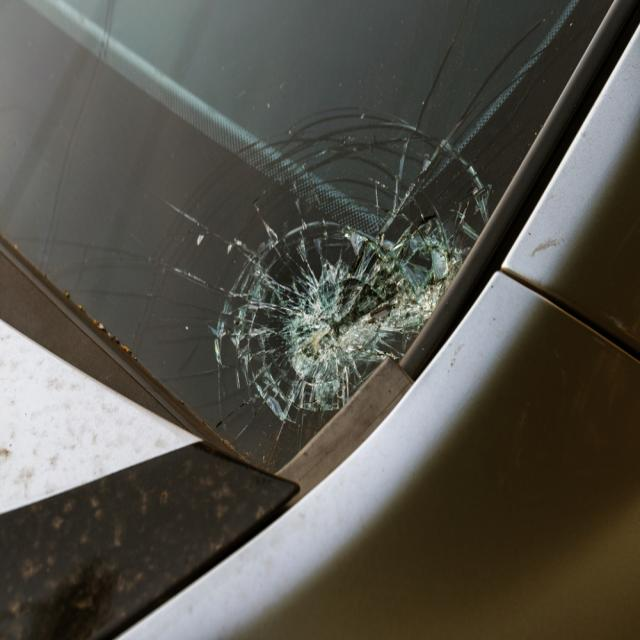Fissure: (206, 0, 598, 226), (216, 206, 468, 440), (3, 184, 214, 423)
